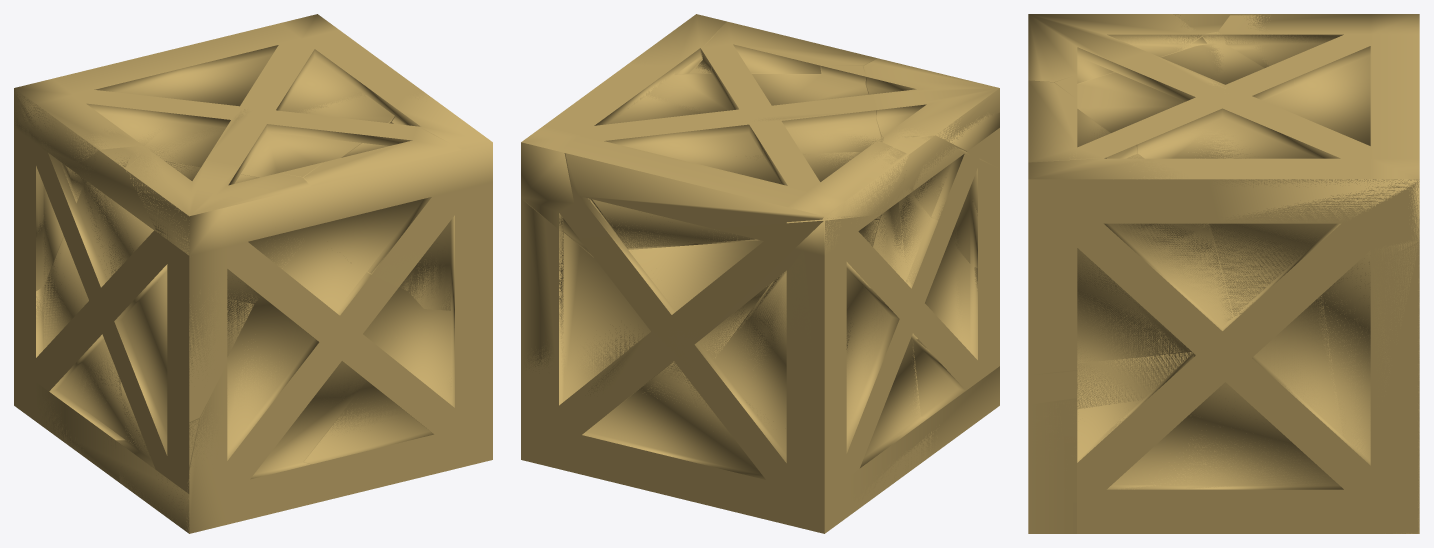
3 renders of one model, left to right at view 1: azimuth 30°, elevation 25°; view 2: azimuth 150°, elevation 25°; view 3: azimuth 270°, elevation 25°, orthographic. The views are drawn at different scales.
Parts seen in each view (by area): view 1: cRATE, cRATE_cell.009, cRATE_cell.008, cRATE_cell.006, cRATE_cell.004, cRATE_cell.002, cRATE_cell.012, cRATE_cell.014, cRATE_cell.013, cRATE_cell.003, cRATE_cell.007, cRATE_cell.001 (+1 smaller); view 2: cRATE, cRATE_cell.006, cRATE_cell.010, cRATE_cell.005, cRATE_cell.011, cRATE_cell.012, cRATE_cell.002, cRATE_cell.004, cRATE_cell.014, cRATE_cell.001, cRATE_cell.003, cRATE_cell.013; view 3: cRATE, cRATE_cell.013, cRATE_cell.006, cRATE_cell, cRATE_cell.002, cRATE_cell.008, cRATE_cell.014, cRATE_cell.011, cRATE_cell.010, cRATE_cell.007.
Boxes of the visible parts, x1,y1,x2,y2 form: cRATE: (14, 14, 492, 533); cRATE_cell.009: (183, 272, 393, 533); cRATE_cell.008: (274, 316, 485, 513); cRATE_cell.006: (138, 80, 412, 177); cRATE_cell.004: (14, 176, 125, 464); cRATE_cell.002: (126, 150, 310, 304); cRATE_cell.012: (14, 93, 84, 345); cRATE_cell.014: (303, 123, 461, 290); cRATE_cell.013: (392, 91, 492, 317); cRATE_cell.003: (118, 148, 253, 422); cRATE_cell.007: (428, 395, 492, 475); cRATE_cell.001: (102, 198, 198, 526); cRATE: (521, 22, 999, 533); cRATE_cell.006: (521, 65, 883, 254); cRATE_cell.010: (521, 199, 694, 432); cRATE_cell.005: (581, 221, 823, 384); cRATE_cell.011: (565, 142, 908, 248); cRATE_cell.012: (715, 214, 880, 474); cRATE_cell.002: (863, 58, 999, 167); cRATE_cell.004: (684, 192, 929, 533); cRATE_cell.014: (696, 21, 876, 73); cRATE_cell.001: (899, 186, 998, 456); cRATE_cell.003: (902, 135, 999, 270); cRATE_cell.013: (626, 14, 726, 74); cRATE: (1028, 14, 1419, 533); cRATE_cell.013: (1028, 158, 1240, 374); cRATE_cell.006: (1055, 31, 1419, 316); cRATE_cell: (1185, 295, 1355, 533); cRATE_cell.002: (1028, 14, 1201, 83); cRATE_cell.008: (1028, 352, 1193, 409); cRATE_cell.014: (1028, 80, 1137, 162); cRATE_cell.011: (1218, 14, 1370, 86); cRATE_cell.010: (1325, 243, 1419, 533); cRATE_cell.007: (1028, 389, 1186, 533).
Size of the model in its own units: 100 by 100 by 100.
